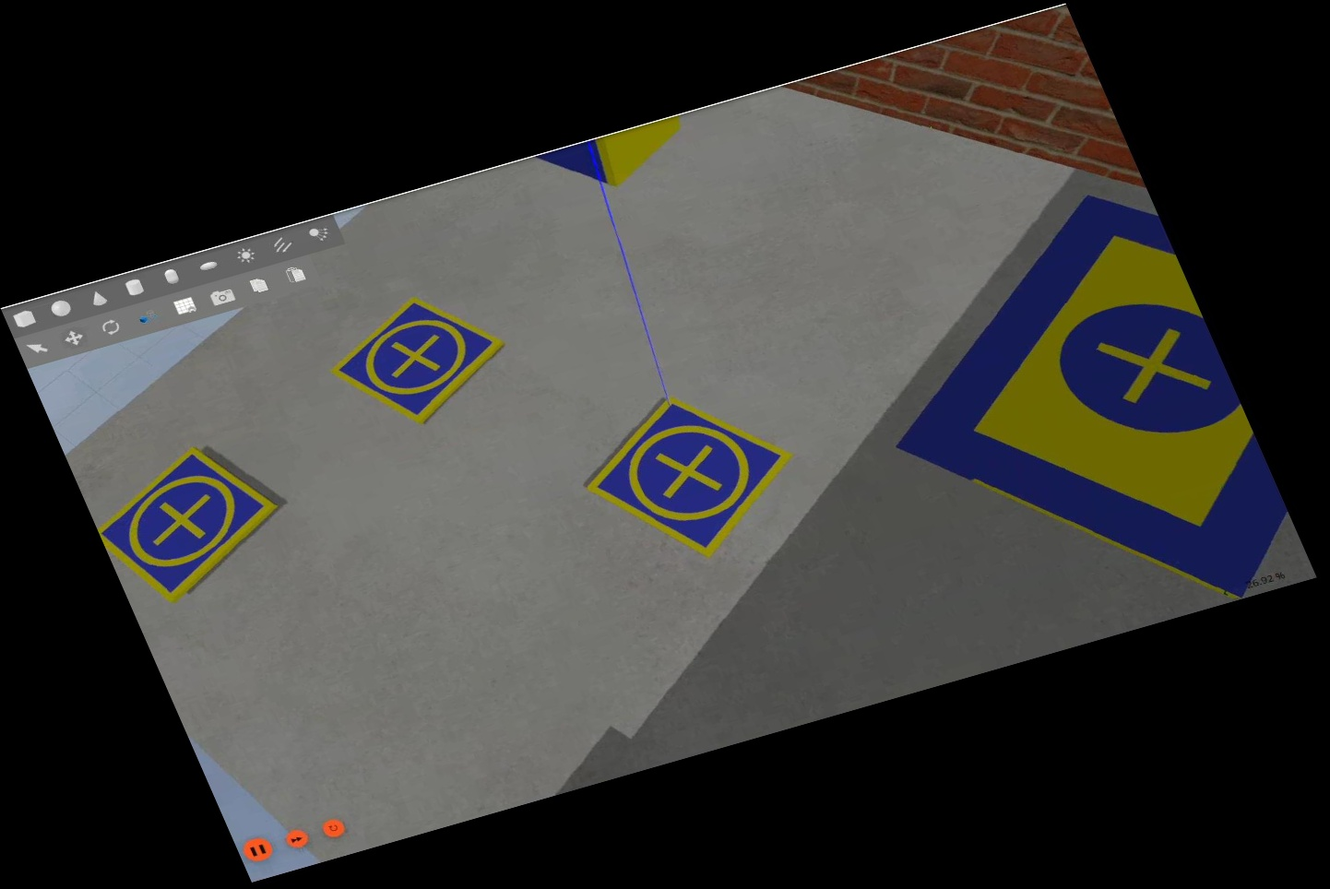large_base: (815, 176, 1318, 670)
small_base: (556, 369, 827, 580), (76, 431, 305, 613), (311, 277, 529, 444)
